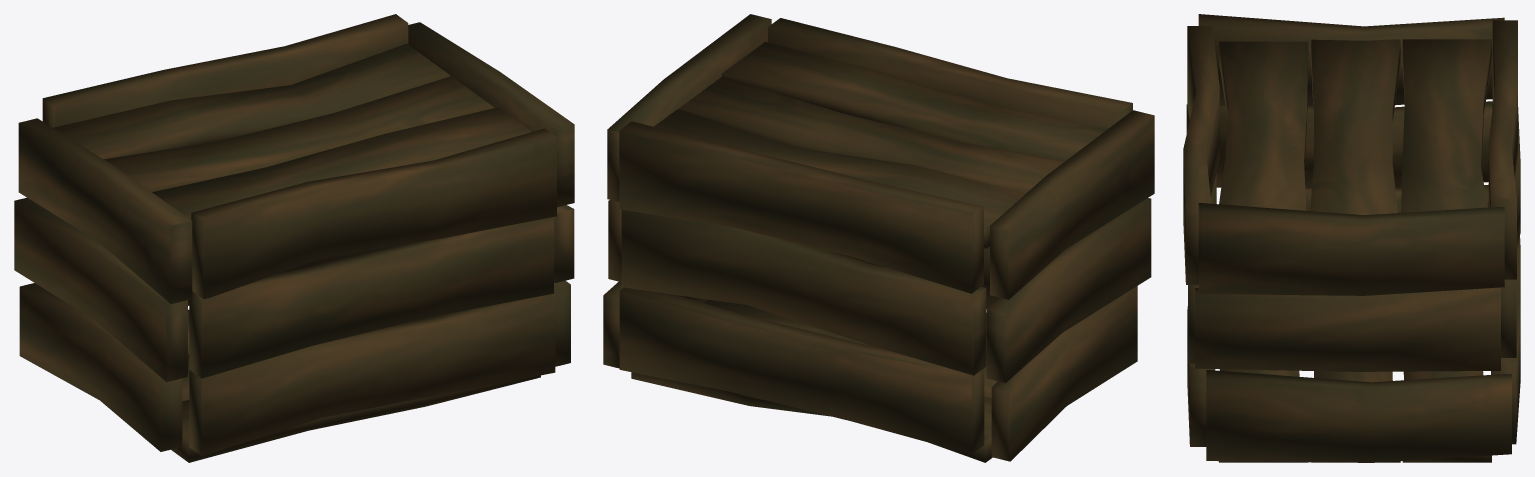
File: SM_WoodCrate.glb
3 views of the same model, side by side, from view 1: azimuth 30°, elevation 25°; view 2: azimuth 150°, elevation 25°; view 3: azimuth 270°, elevation 25° (orthographic). The views are drawn at different scales.
Parts seen in each view (by area): view 1: SM_WoodCrate; view 2: SM_WoodCrate; view 3: SM_WoodCrate.
Boxes of the visible parts, x1=… form: SM_WoodCrate: x1=14, y1=14, x2=574, y2=462; SM_WoodCrate: x1=603, y1=14, x2=1154, y2=462; SM_WoodCrate: x1=1183, y1=14, x2=1520, y2=462.
Bounding box in the file's own units: 0.6496 × 0.3912 × 0.4467.
Materials: 1 (1 with a texture image).
